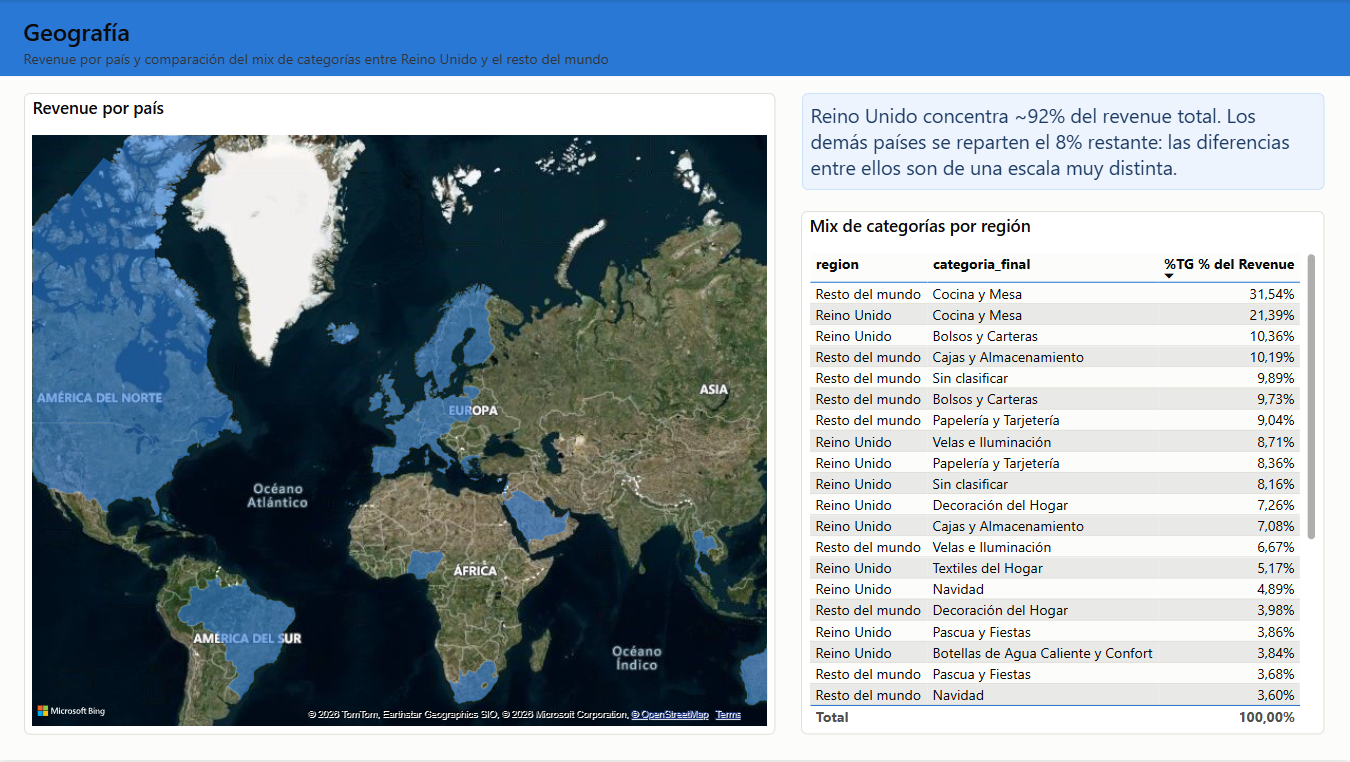

This screenshot's page, from the dashboard's own definition file:
{"tool":"powerbi","page":{"name":"Geografía","canvas":[1280,720],"ordinal":2},"visuals":[{"type":"shape","box":[0,0,1280,72],"z":0},{"type":"shape","box":[0,71,1280,1],"z":1000},{"type":"textbox","box":[18.4,9.7,619.9,47.4],"z":2000},{"type":"textbox","box":[18.4,41.3,779.7,30.7],"z":3000},{"type":"filledMap","title":"Revenue por país","fields":{"Category":["fact_ventas.country"],"Size":["Medidas.Revenue Total"]},"box":[24,88,712,608],"z":4000},{"type":"textbox","box":[760.4,87.8,495.2,92.2],"z":5000},{"type":"tableEx","title":"Mix de categorías por región","fields":{"Values":["fact_ventas.region","dim_producto.categoria_final","Medidas.% del Revenue"]},"box":[760,200,496,496],"z":6000}]}

Visuals, with their boxes in screenshot pixels (x1, y1, x2, y2), scaled from the page's 1280x720 canvas onto the 1350x762 screenshot:
shape: detection(0, 0, 1349, 76)
shape: detection(0, 75, 1349, 76)
textbox: detection(19, 10, 673, 60)
textbox: detection(19, 44, 842, 76)
"Revenue por país" filledMap: detection(25, 93, 776, 737)
textbox: detection(802, 93, 1324, 190)
"Mix de categorías por región" tableEx: detection(802, 212, 1325, 737)
